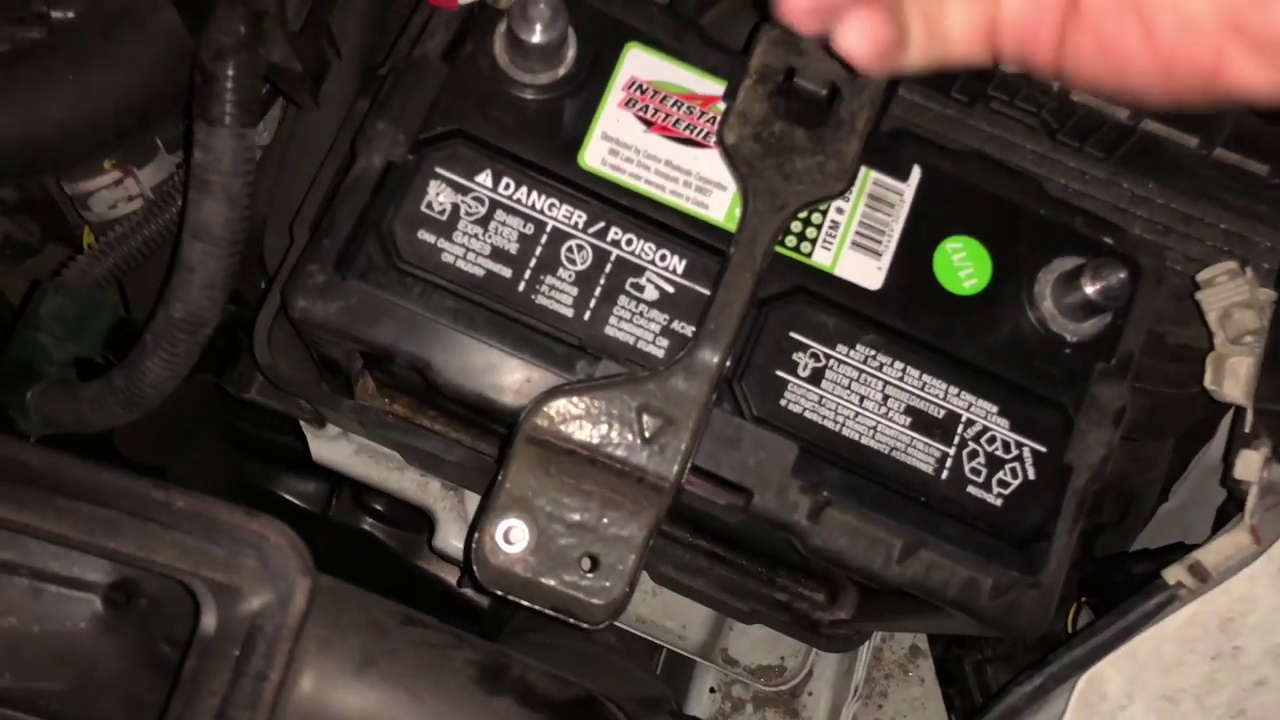battery: (390, 3, 1149, 611)
